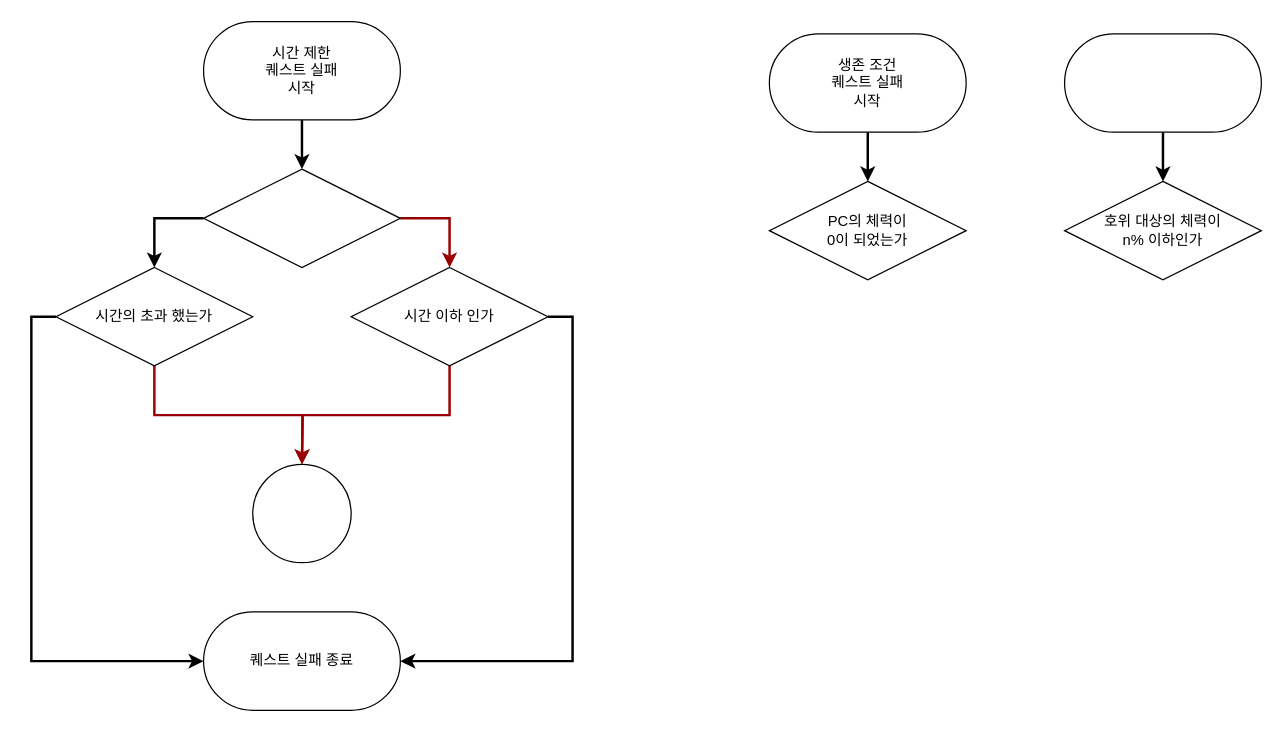
The diagram is 1283 pixels wide and 732 high, and some of its shapes have lost their labels. Here are the shapes that lost their labels. From the top down, the centre of each, then its label:
[1162,82]: 호위 조건 퀘스트 실패 시작
[301,218]: 시간 초과 조건 인가
[301,513]: 종료
